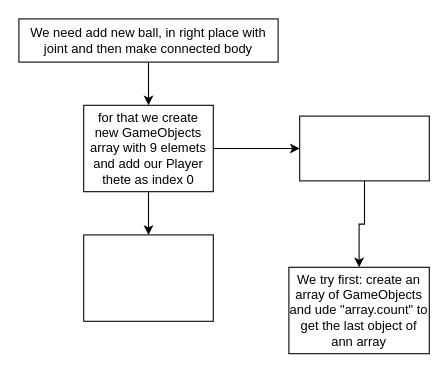
Image size: 448x373. Some labels were removed from this diagram. Here are the shapes that lost their labels. From the top down, the centre of each, then its label:
At pixel 364 148: "I am dot;t remember how arrays in Unity works".
At pixel 148 277: "When we will creating new we add as connected body the last element in arr".
